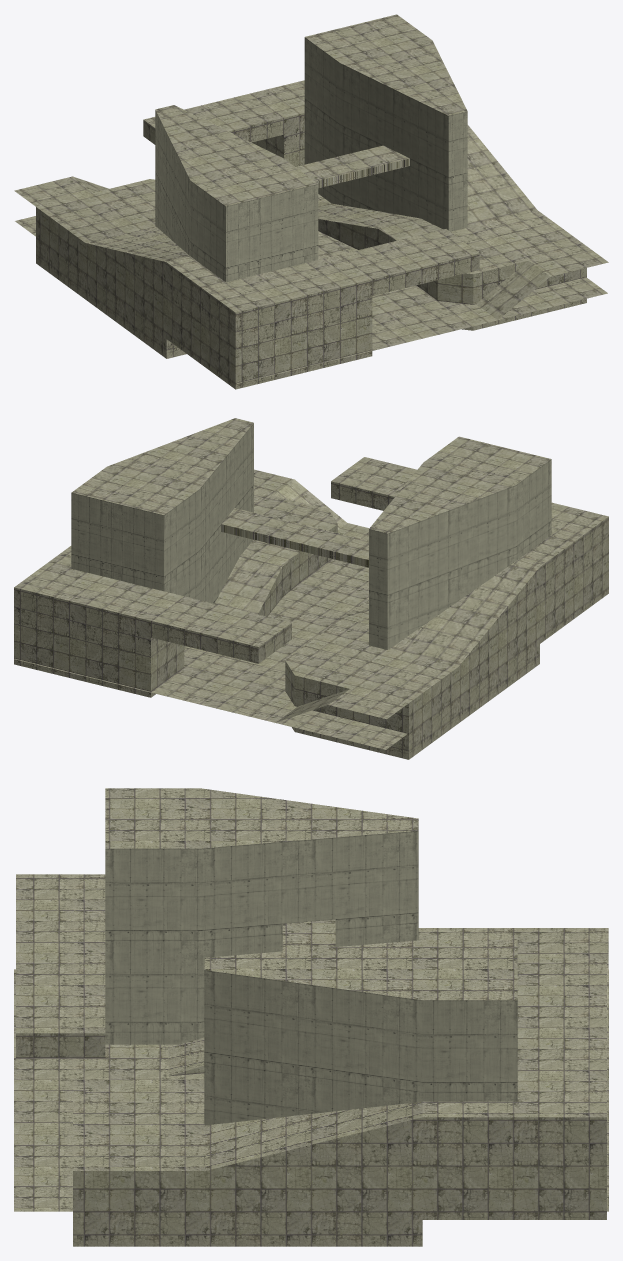
The model's file is SM_NeoLD_16_Block_00.fbx.
The picture shows the model from 3 angles, top to bottom: view 1: azimuth 30°, elevation 25°; view 2: azimuth 150°, elevation 25°; view 3: azimuth 270°, elevation 25°; orthographic projection. The views are drawn at different scales.
Visible parts, largest first — view 1: SM_NeoLD_16_Block_00; view 2: SM_NeoLD_16_Block_00; view 3: SM_NeoLD_16_Block_00.
Part boxes in pixels (<box>): SM_NeoLD_16_Block_00: <box>14,14,608,389</box>; SM_NeoLD_16_Block_00: <box>14,418,608,759</box>; SM_NeoLD_16_Block_00: <box>14,788,608,1246</box>.
Size of the model in its own units: 3823 by 1692 by 3953.
